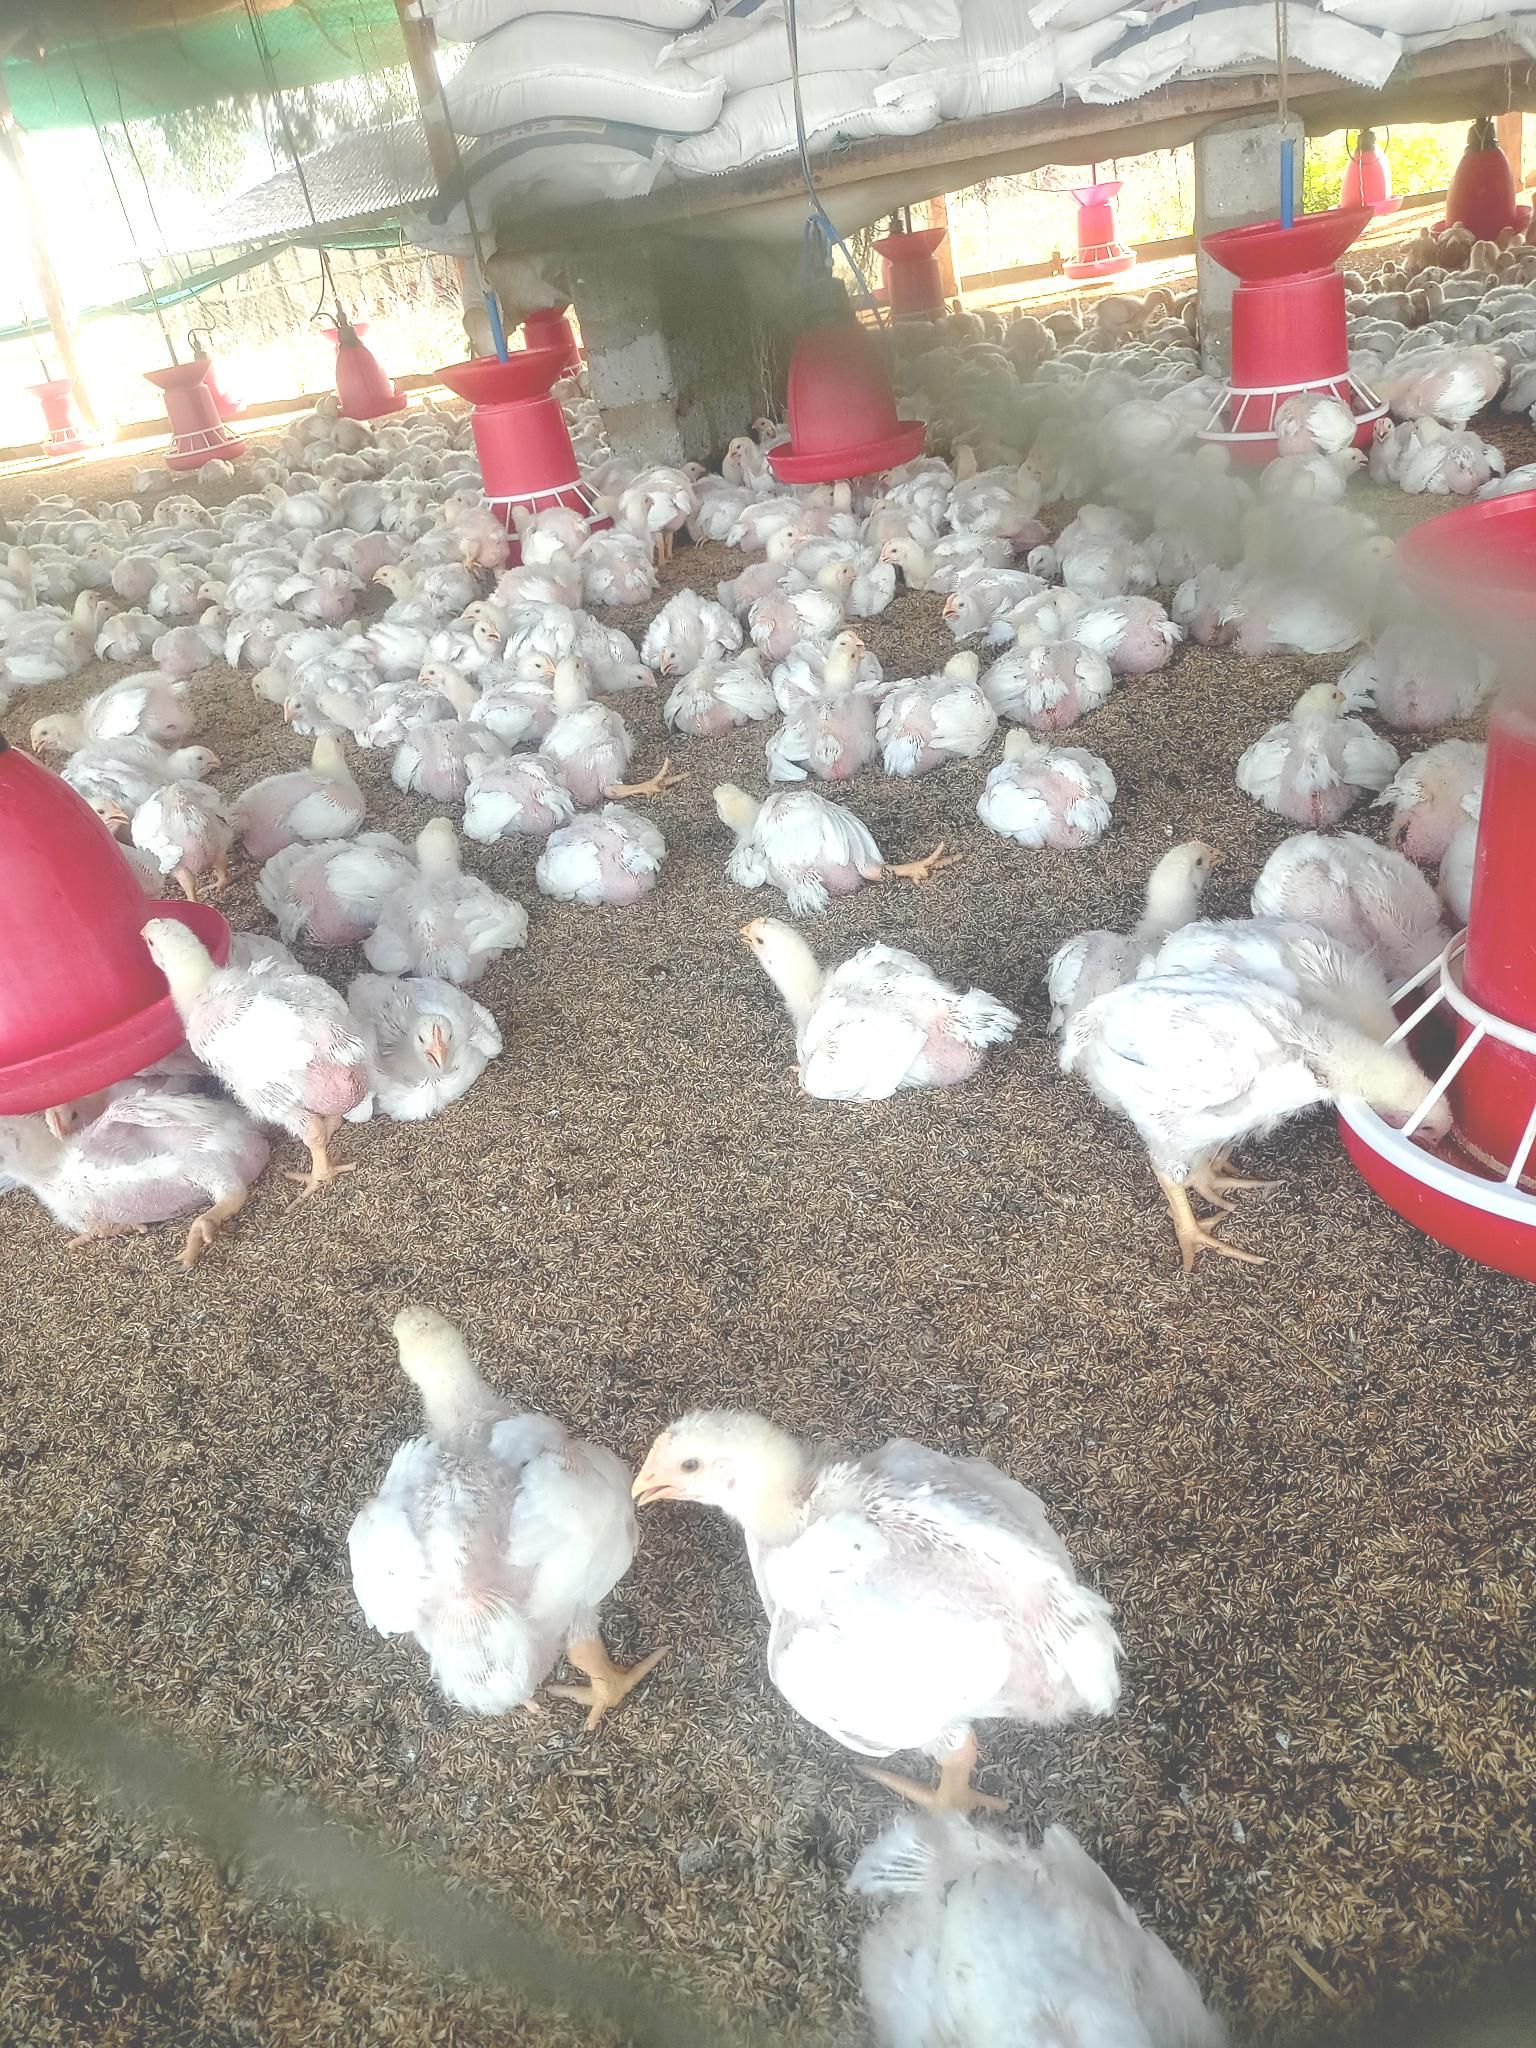Pollos: (634, 1409, 1136, 1734), (366, 1309, 634, 1696), (1042, 976, 1450, 1150), (139, 918, 382, 1132), (744, 914, 999, 1108), (1060, 839, 1238, 1014), (357, 819, 537, 963), (355, 979, 515, 1121), (708, 776, 887, 889), (971, 726, 1133, 848), (1252, 684, 1391, 805), (240, 734, 357, 866), (542, 655, 649, 790), (770, 637, 878, 769), (886, 648, 997, 772), (539, 801, 676, 898), (24, 677, 202, 743), (1049, 587, 1181, 671), (73, 739, 223, 811), (753, 556, 863, 645), (645, 584, 739, 681), (879, 529, 1016, 585), (373, 558, 490, 610), (942, 576, 1033, 640)
